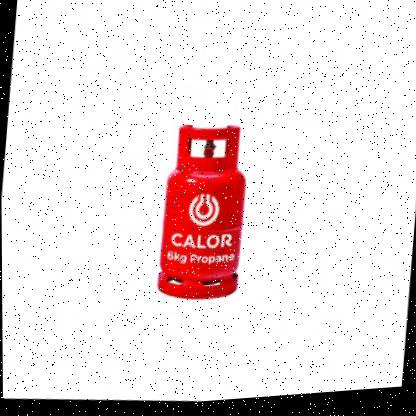gas-tank: (140, 111, 269, 316)
